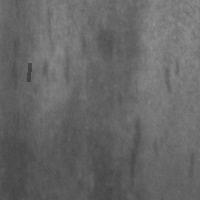inclusion: (36, 6, 62, 89), (122, 114, 146, 191), (7, 30, 28, 102), (160, 60, 176, 102), (26, 61, 31, 83)
